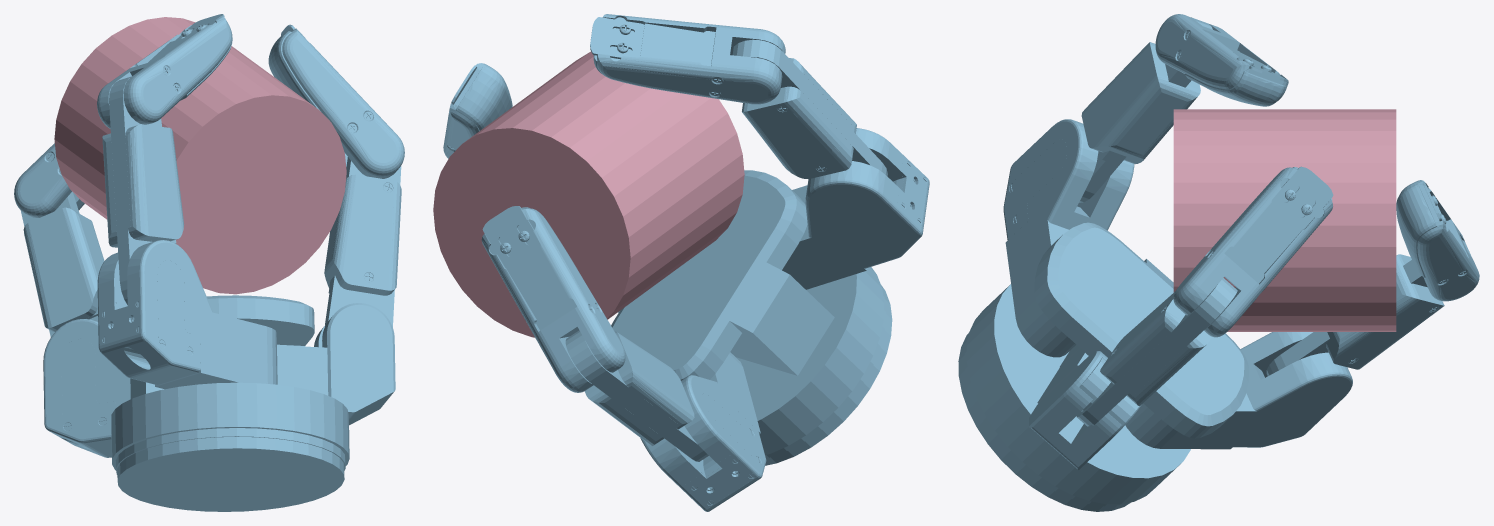
3 views of the same model, side by side, from view 1: azimuth 30°, elevation 25°; view 2: azimuth 150°, elevation 25°; view 3: azimuth 270°, elevation 25° (orthographic). The views are drawn at different scales.
Visible parts, largest first — view 1: world; view 2: world; view 3: world.
Part boxes in pixels (x1,y1,x2,y2): world: [14, 14, 404, 511]; world: [433, 14, 929, 511]; world: [958, 14, 1479, 511].
Size of the model in its own units: 0.16 by 0.183 by 0.1871.
